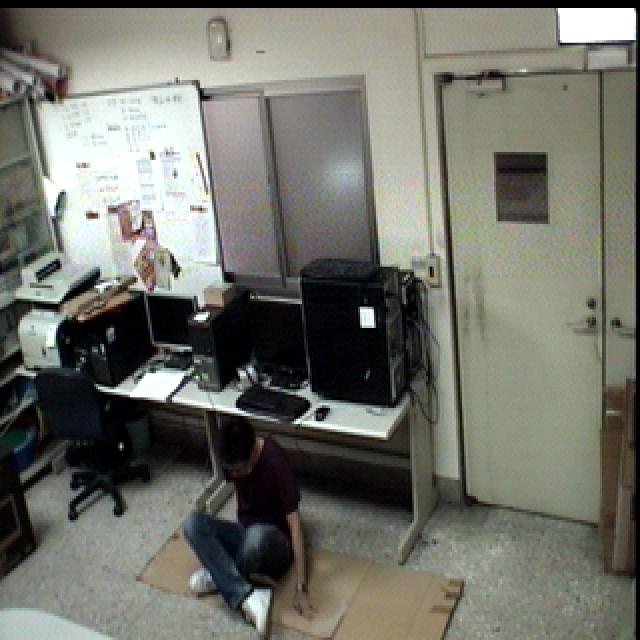sit: (174, 411, 324, 640)
